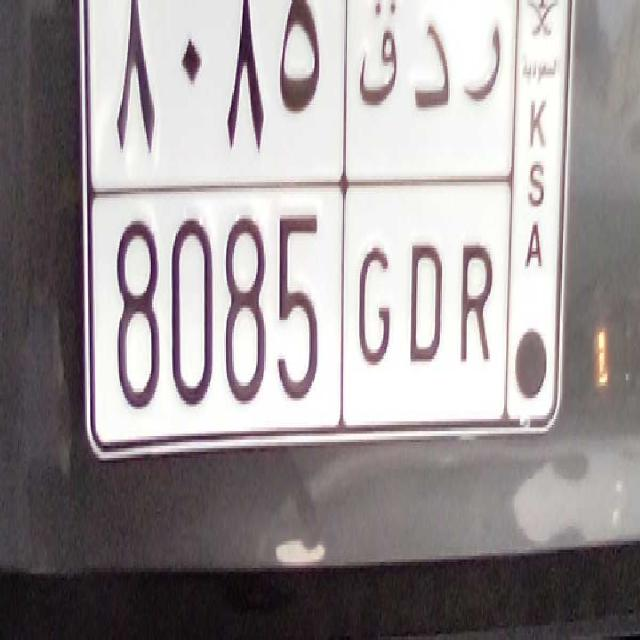license_plate: (97, 184, 506, 426)
